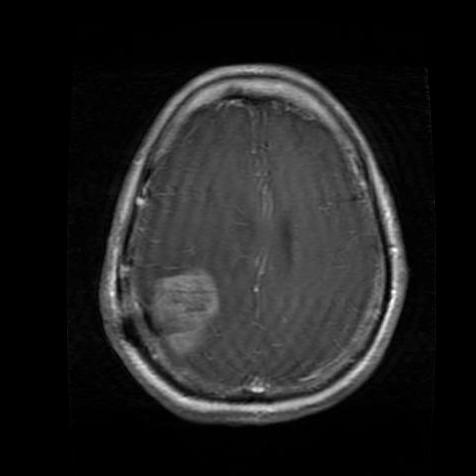Tumour-Glioma: (152, 260, 231, 361)
